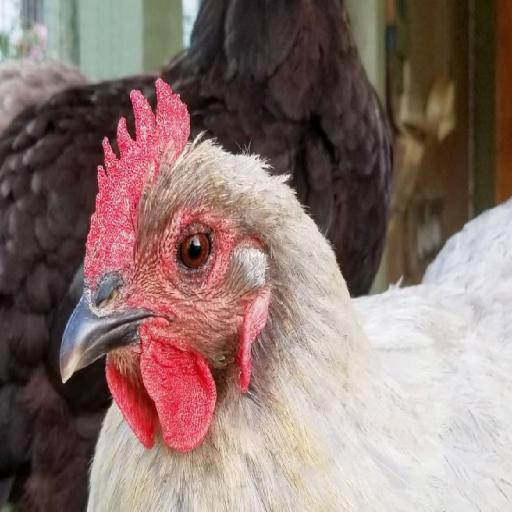disease: (105, 181, 133, 252), (163, 101, 182, 135)
